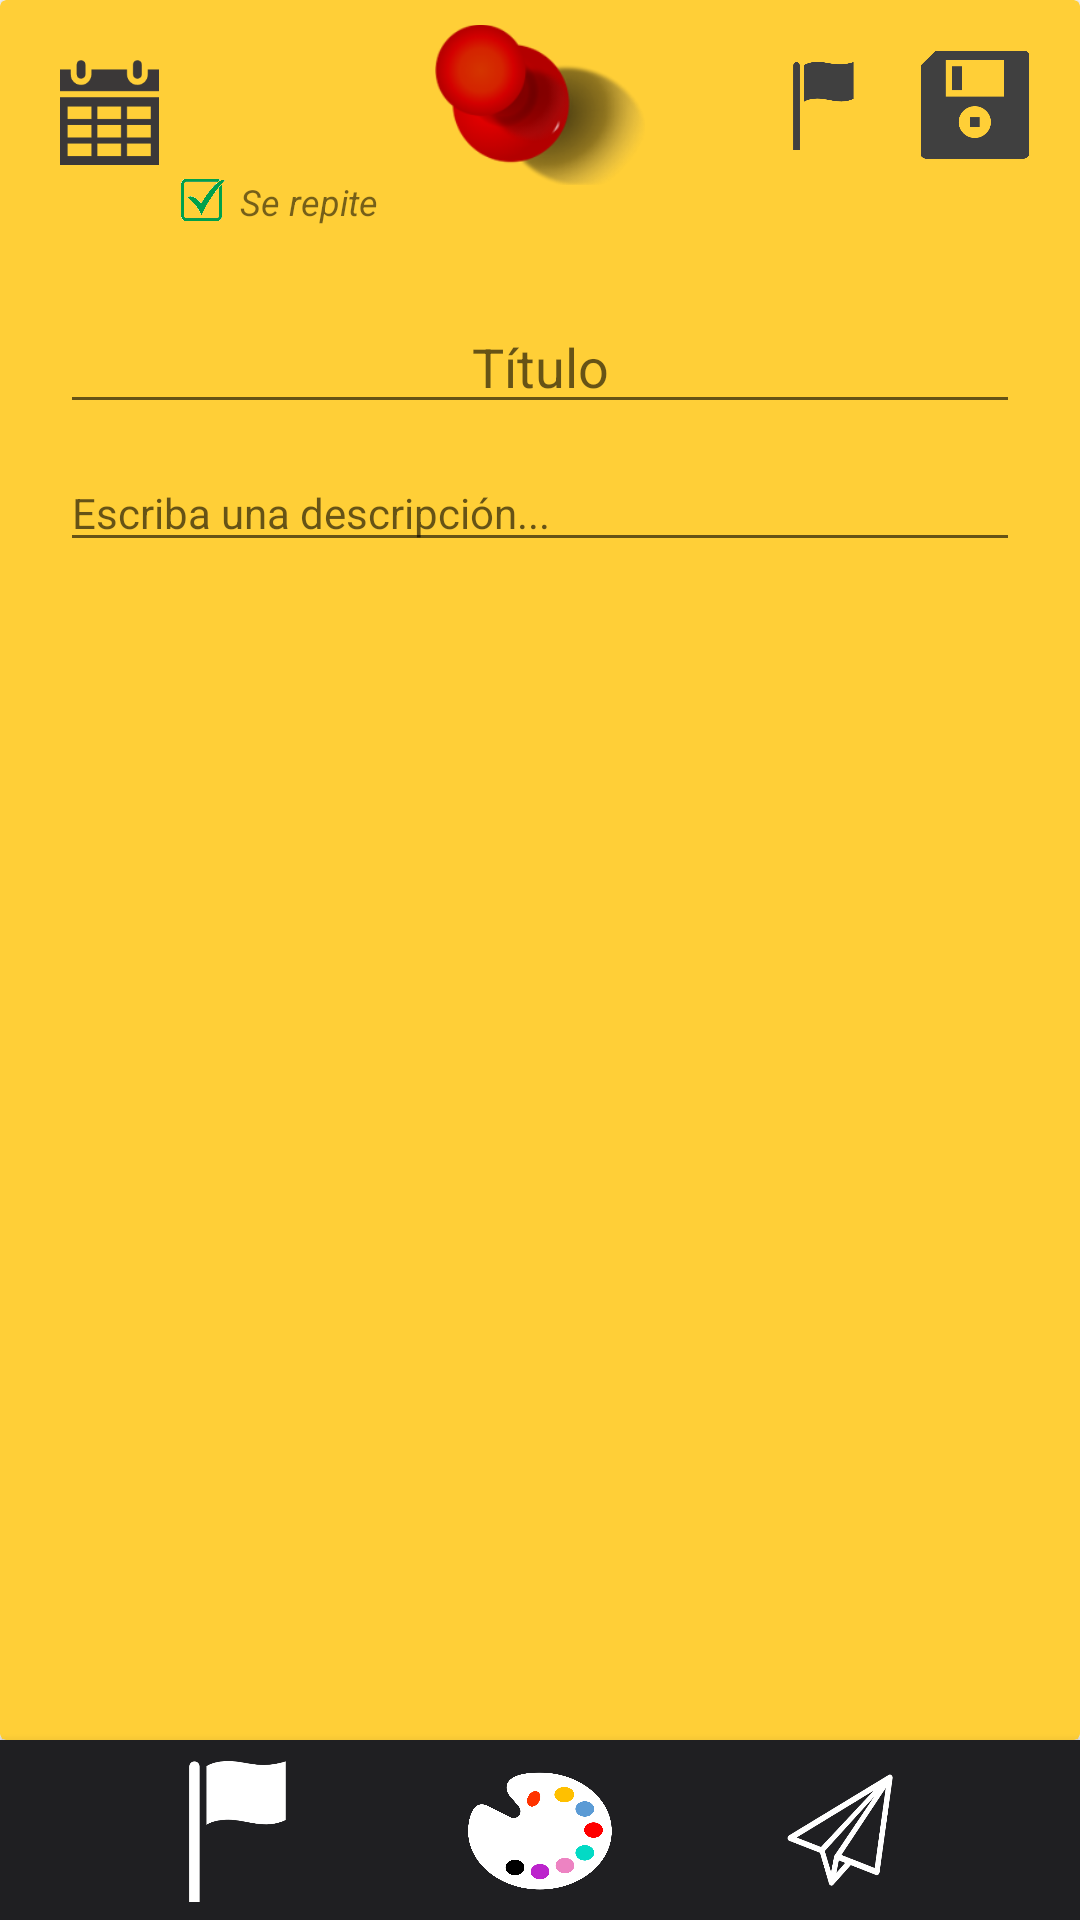

Named icons in this screenshot (1080x1920) and their bounding boxes, (x1, y1, x2, y2):
check: (181, 179, 225, 221)
fecha: (60, 60, 159, 165)
pin: (435, 25, 636, 183)
